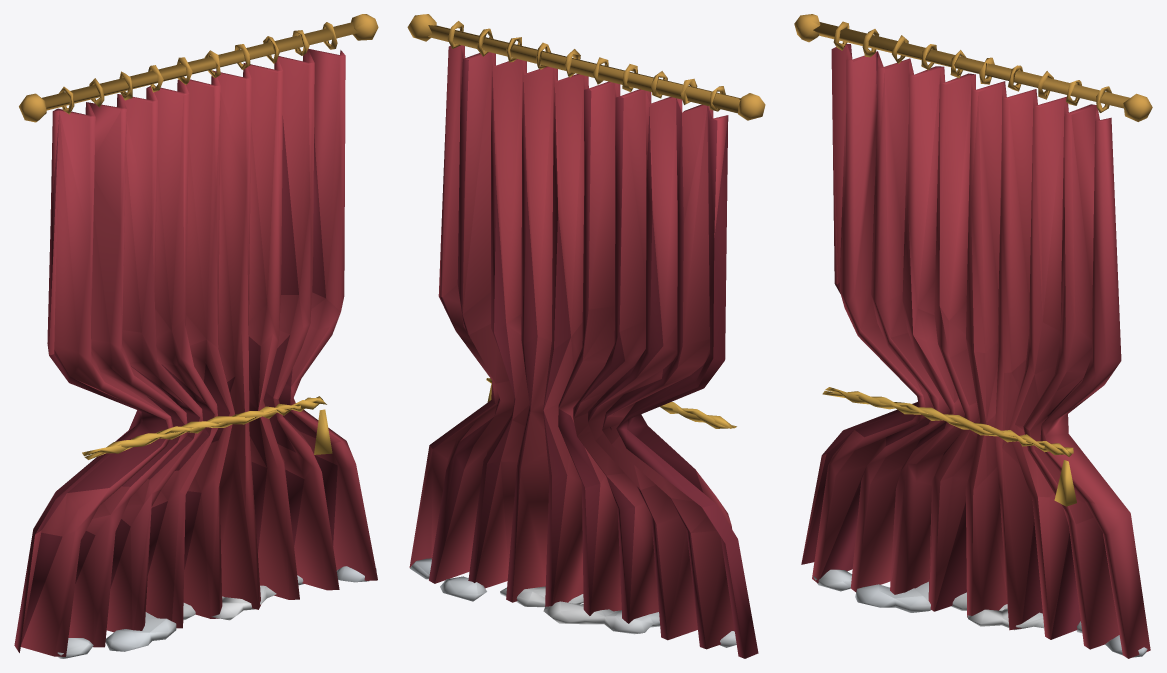
Rendered from frost_curtain_lod2.glb.
3 renders of one model, left to right at view 1: azimuth 30°, elevation 25°; view 2: azimuth 150°, elevation 25°; view 3: azimuth 330°, elevation 25°, orthographic.
Parts seen in each view (by area): view 1: frost_curtain.001; view 2: frost_curtain.001; view 3: frost_curtain.001.
Boxes of the visible parts, x1=… form: frost_curtain.001: x1=14, y1=14, x2=378, y2=658; frost_curtain.001: x1=407, y1=14, x2=765, y2=658; frost_curtain.001: x1=794, y1=14, x2=1152, y2=658.
Size of the model in its own units: 37.64 by 57.64 by 8.21.
